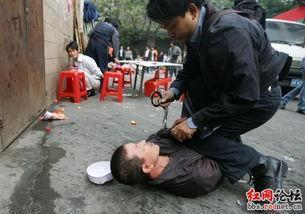Fall-Detected: (102, 119, 298, 201)
